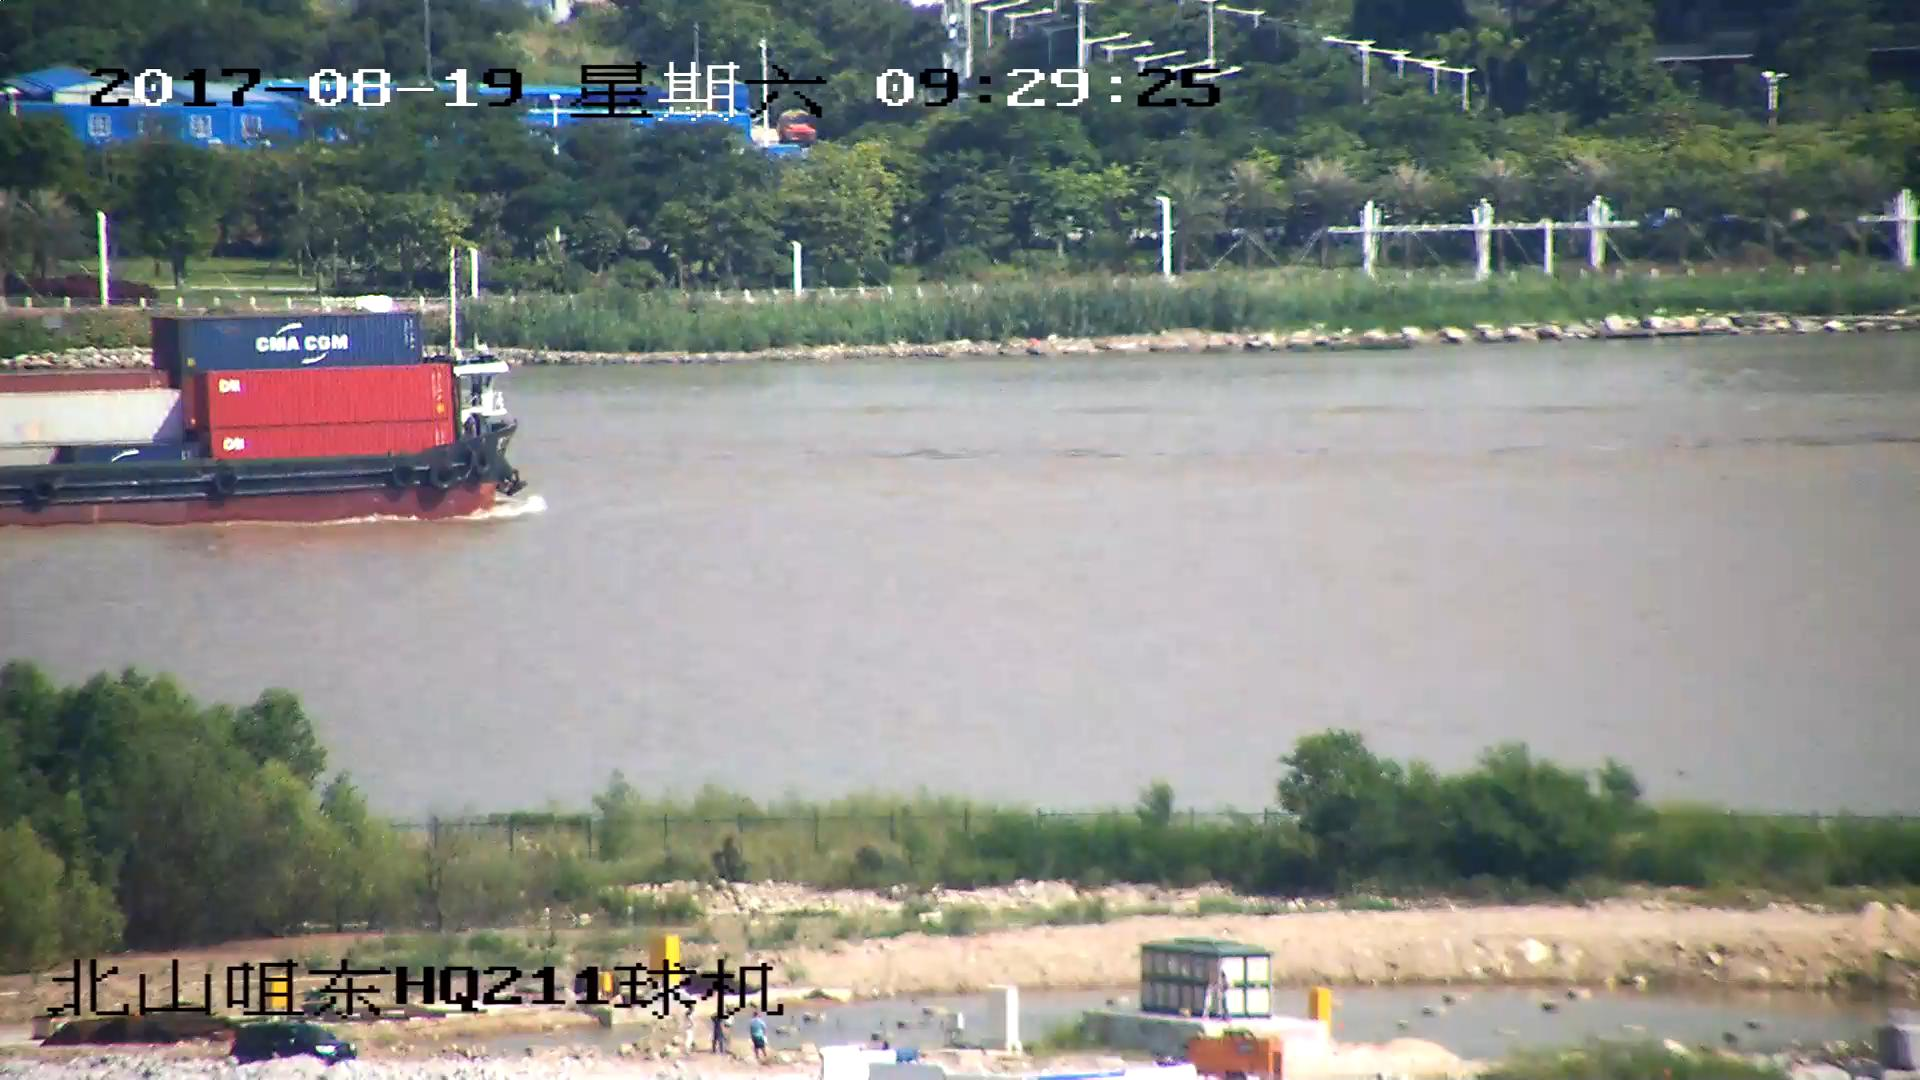container ship: (1, 252, 525, 524)
